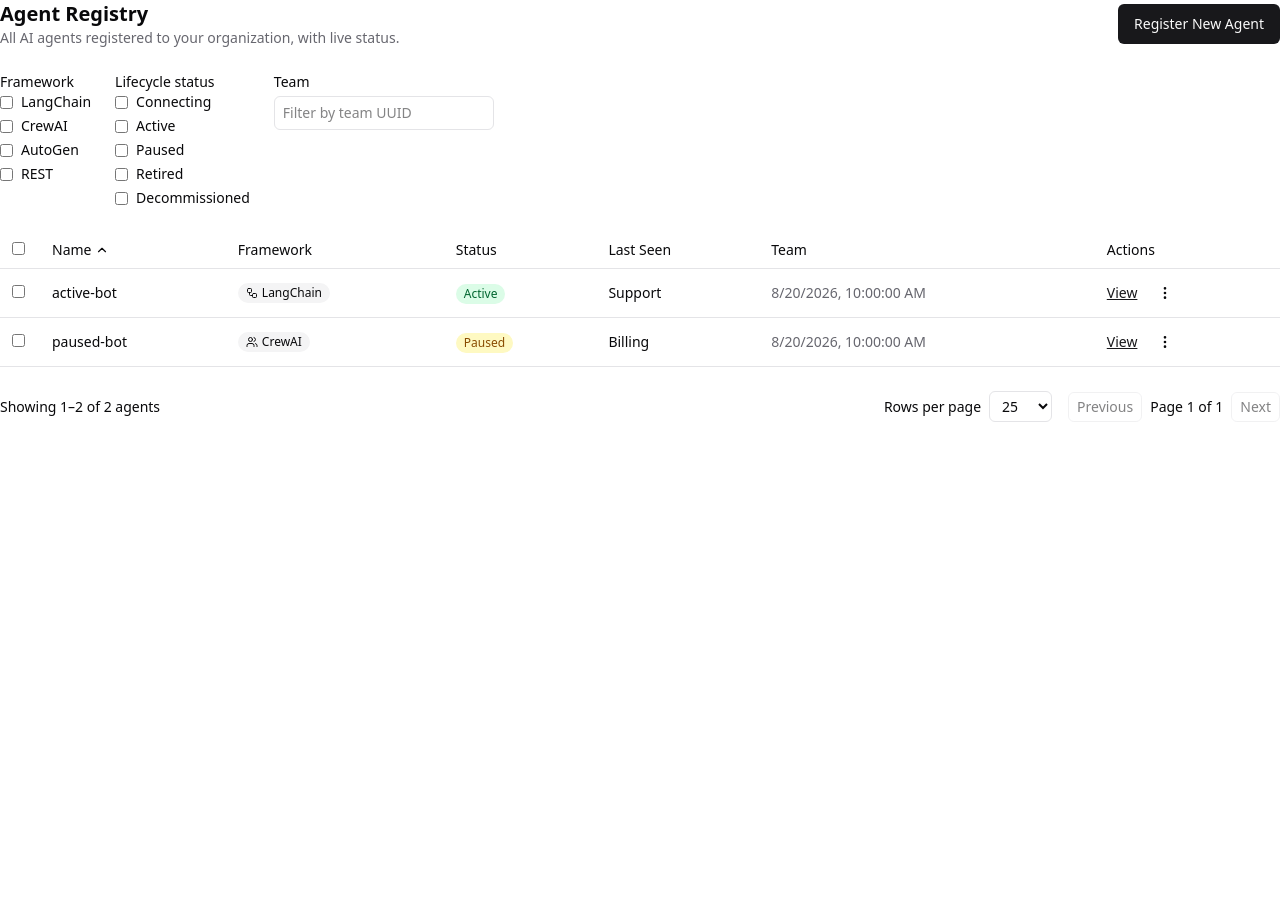
it: AgentRegistryPage — lifecycle management (WO-081) › individual pause flow: action menu -> confirmation dialog (with in-flight warning) -> PATCH -> row reflects the new status
Expected: the text "active-bot" is shown, 40,268 -> 226,318
Click the button named "Actions for active-bot" at (1165, 293), box 1149,277 -> 1181,309
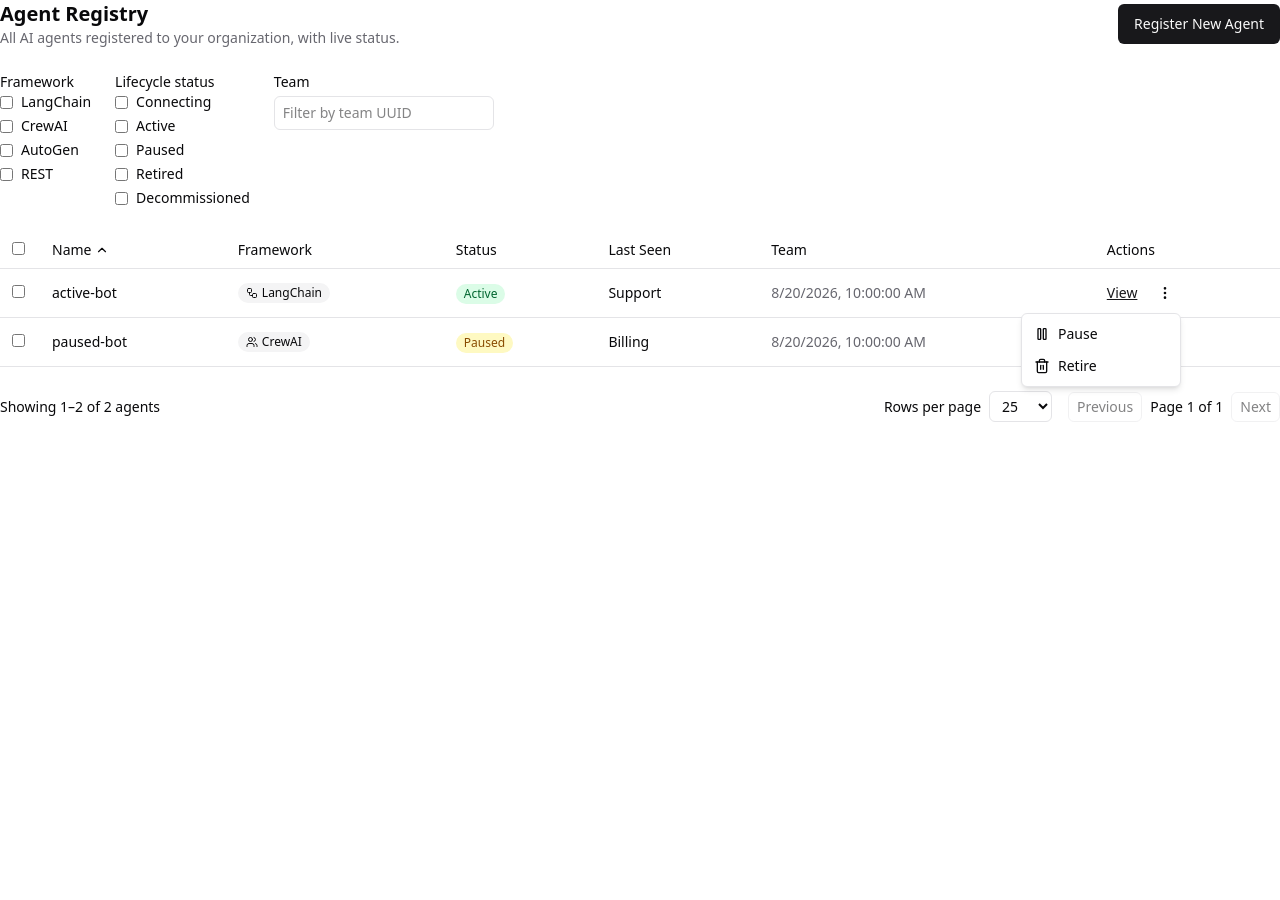
Click the menu item "Pause" at (1066, 334), box 1034,324 -> 1098,343
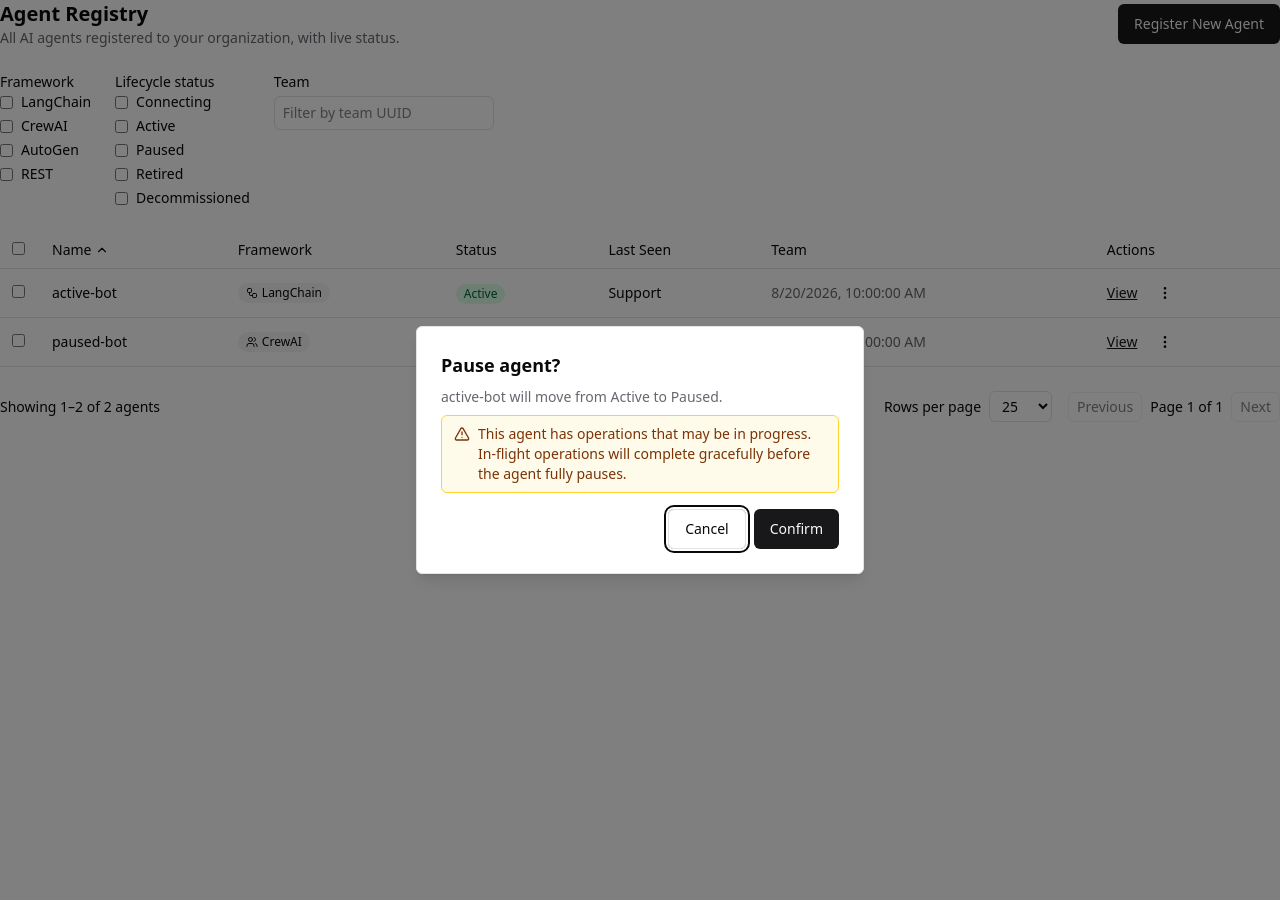
Expected: the heading "Pause agent?" is shown, 441,353 -> 560,377
Expected: the text "In-flight operations will complete gracefully" is shown, 478,424 -> 811,483
Click the button "Confirm" at (796, 529), box 754,509 -> 839,549
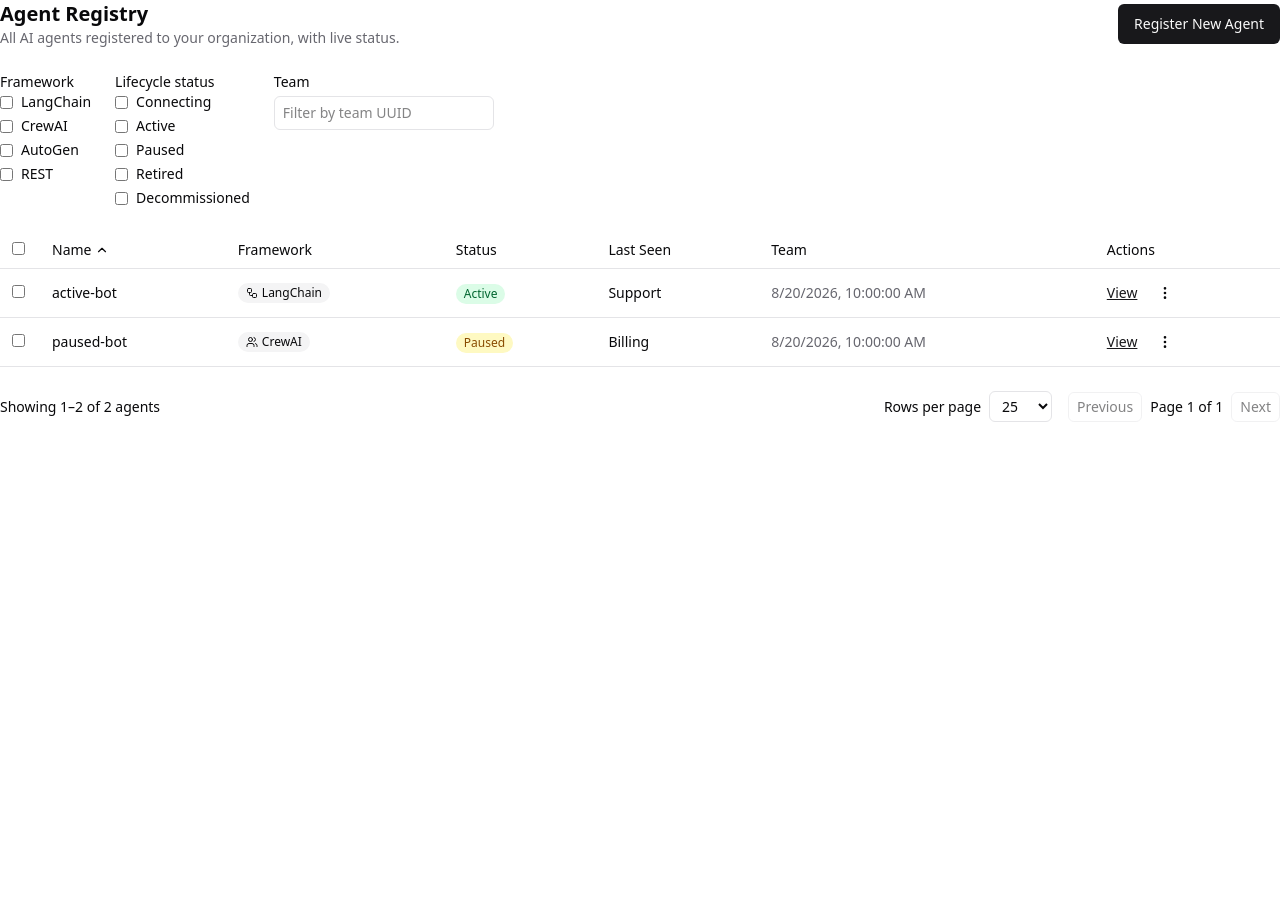
Expected: the heading "Pause agent?" is gone
